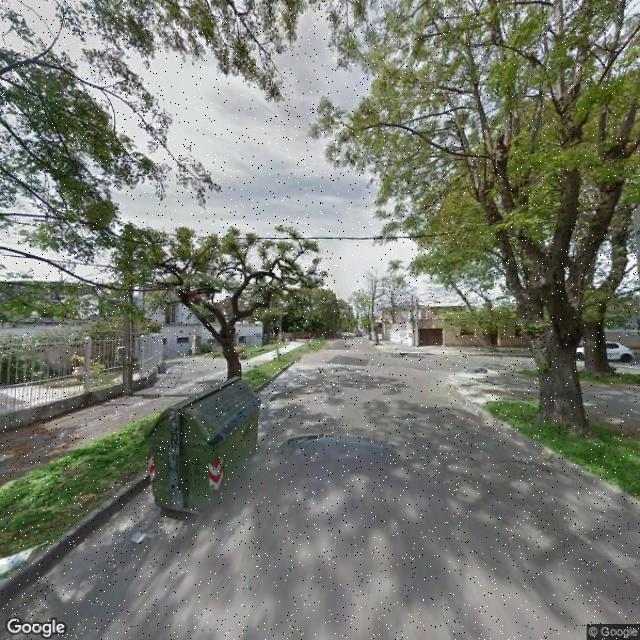garbage container: (141, 374, 275, 527)
